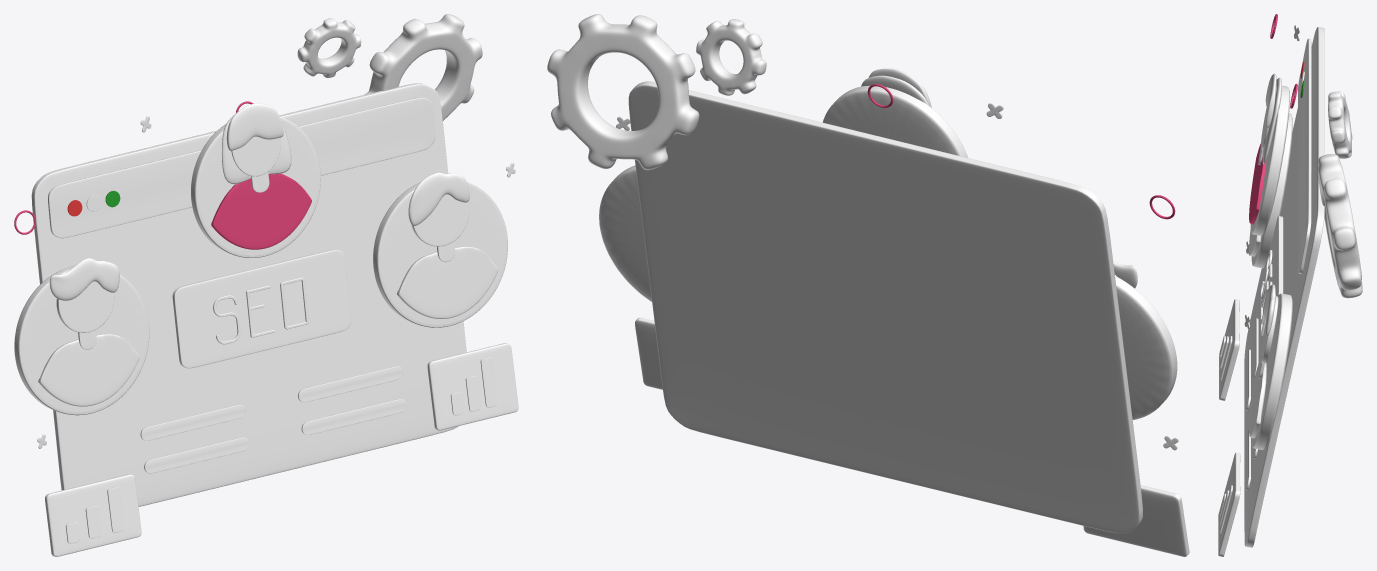
Rendered from seo-team-3d-animated-icon-680010004384.glb.
3 renders of one model, left to right at view 1: azimuth 30°, elevation 25°; view 2: azimuth 150°, elevation 25°; view 3: azimuth 270°, elevation 25°, orthographic. The views are drawn at different scales.
Visible parts, largest first — view 1: Cube.008, Cube.001, SEO Frame, Men Left Base 2, Men Left Base 1, Gear.001, Girl Mid, Girl Mid.001, Men Left, Men Left 2, Frame 2, Frame 1 (+11 smaller); view 2: Cube.008, Gear.001, Men Left Base 1, Girl Mid, Men Left Base 2, Frame 1, Gear.003, Frame 2, Girl Mid.003; view 3: Cube.008, Gear.001, Cube.001, Men Left Base 2, Girl Mid, Men Left Base 1, Gear.003, Frame 2, Frame 1, SEO Frame, Girl Mid.003, Men Left 2 (+9 smaller).
Boxes of the visible parts, left/top/right/bottom form: Cube.008: left=31, top=83, right=466, bottom=506; Cube.001: left=47, top=97, right=435, bottom=238; SEO Frame: left=172, top=249, right=350, bottom=368; Men Left Base 2: left=373, top=181, right=507, bottom=327; Men Left Base 1: left=14, top=265, right=149, bottom=415; Gear.001: left=364, top=14, right=482, bottom=120; Girl Mid: left=191, top=116, right=320, bottom=257; Girl Mid.001: left=211, top=173, right=311, bottom=249; Men Left: left=38, top=334, right=139, bottom=406; Men Left 2: left=397, top=246, right=498, bottom=318; Frame 2: left=427, top=343, right=518, bottom=430; Frame 1: left=45, top=474, right=141, bottom=556; Cube.008: left=628, top=81, right=1142, bottom=533; Gear.001: left=547, top=14, right=699, bottom=170; Men Left Base 1: left=1115, top=276, right=1177, bottom=419; Girl Mid: left=822, top=85, right=967, bottom=157; Men Left Base 2: left=599, top=165, right=651, bottom=301; Frame 1: left=1083, top=485, right=1189, bottom=556; Gear.003: left=696, top=19, right=766, bottom=95; Frame 2: left=635, top=317, right=662, bottom=389; Girl Mid.003: left=861, top=68, right=931, bottom=107; Cube.008: left=1244, top=27, right=1324, bottom=547; Gear.001: left=1318, top=154, right=1362, bottom=298; Cube.001: left=1298, top=38, right=1311, bottom=274; Men Left Base 2: left=1251, top=293, right=1292, bottom=449; Girl Mid: left=1250, top=85, right=1289, bottom=235; Men Left Base 1: left=1251, top=113, right=1292, bottom=268; Gear.003: left=1328, top=91, right=1352, bottom=158; Frame 2: left=1218, top=452, right=1240, bottom=556; Frame 1: left=1219, top=299, right=1239, bottom=400; SEO Frame: left=1260, top=216, right=1283, bottom=356; Girl Mid.003: left=1262, top=73, right=1281, bottom=164; Men Left 2: left=1249, top=357, right=1266, bottom=438.
Bounding box in the file's own units: 6.26 × 4.99 × 1.51.
